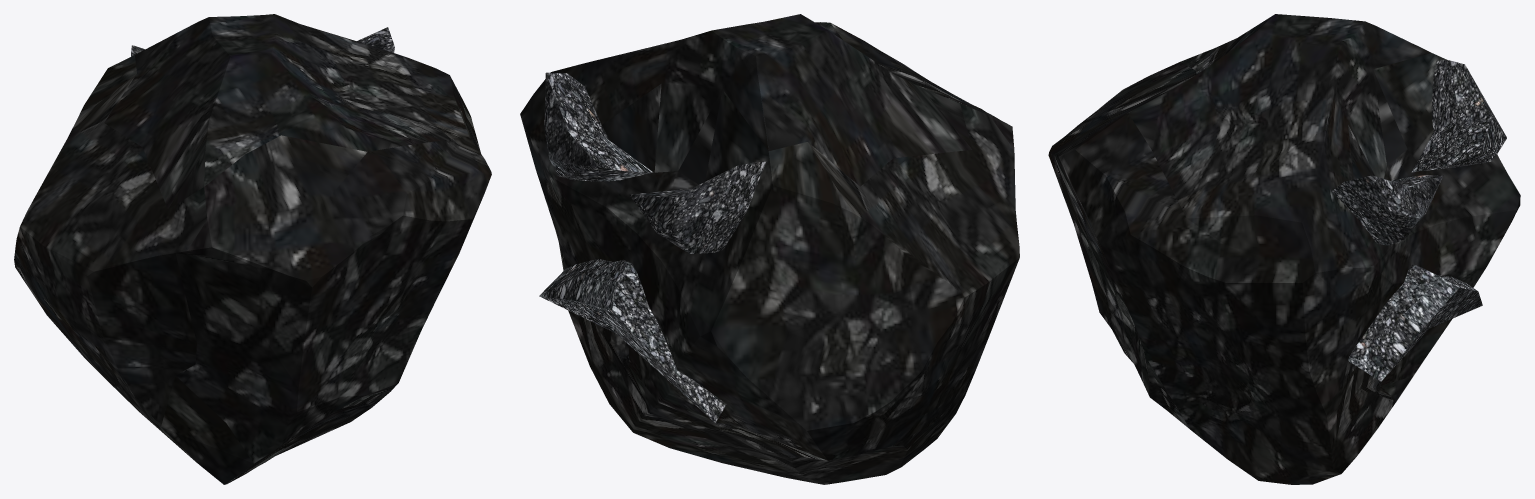
File: coal.fbx
3 renders of one model, left to right at view 1: azimuth 30°, elevation 25°; view 2: azimuth 150°, elevation 25°; view 3: azimuth 270°, elevation 25°, orthographic. The views are drawn at different scales.
Visible parts, largest first — view 1: Cube, Cube.001; view 2: Cube, Cube.001; view 3: Cube, Cube.001.
Boxes of the visible parts, x1,y1,x2,y2 form: Cube: [14, 14, 491, 484]; Cube.001: [131, 27, 394, 56]; Cube: [520, 14, 1019, 484]; Cube.001: [539, 72, 765, 422]; Cube: [1048, 14, 1520, 484]; Cube.001: [1332, 60, 1506, 381].
Size of the model in its own units: 309 by 292 by 286.
